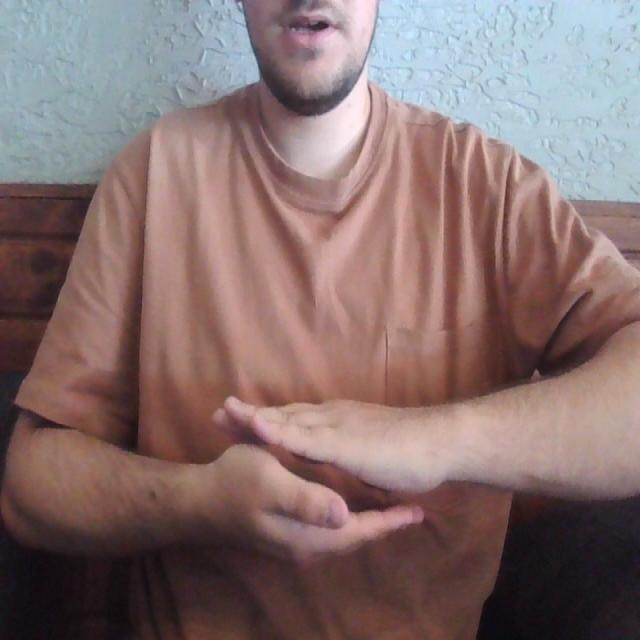Arkadas: (90, 374, 521, 574)
